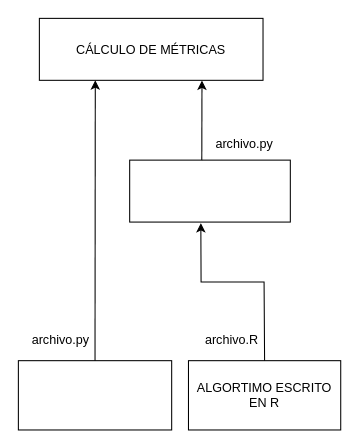
Image size: 359x448. Some labels were removed from this diagram. Each missing label, with the centre of its shape:
"ALGORITMO ESCRITO EN PYTHON" goes at point 94,395.
"INTERFAZ RPY2" goes at point 209,190.
